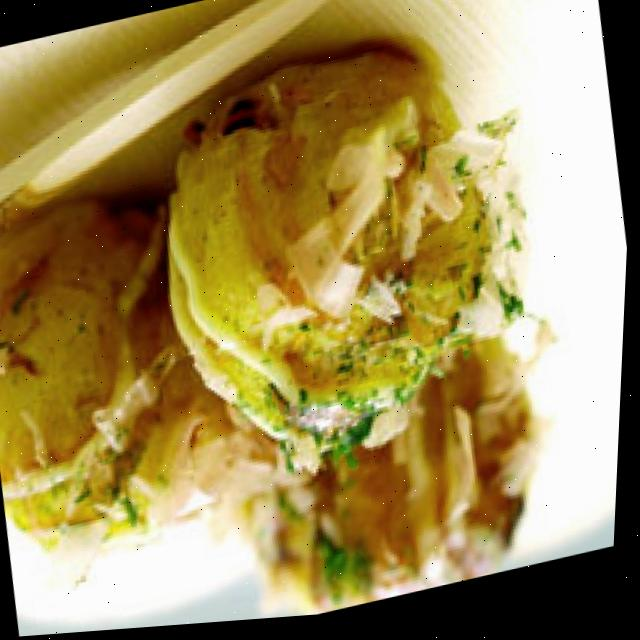炸货点心: (0, 9, 589, 640)
